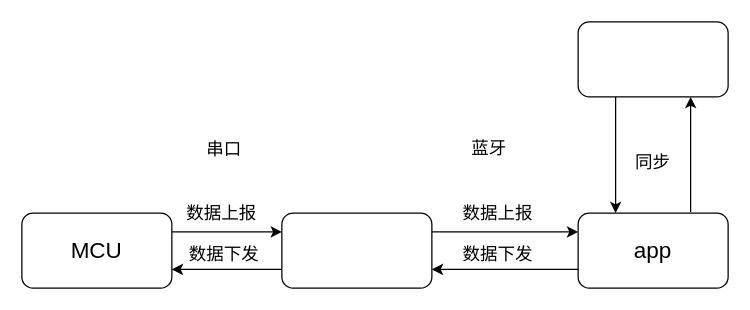
This 750x310 diagram has some shape labels left out. Here are the shapes that lost their labels. From the top down, the centre of each, then its label:
(x=652, y=59): 云端
(x=356, y=250): 模组
